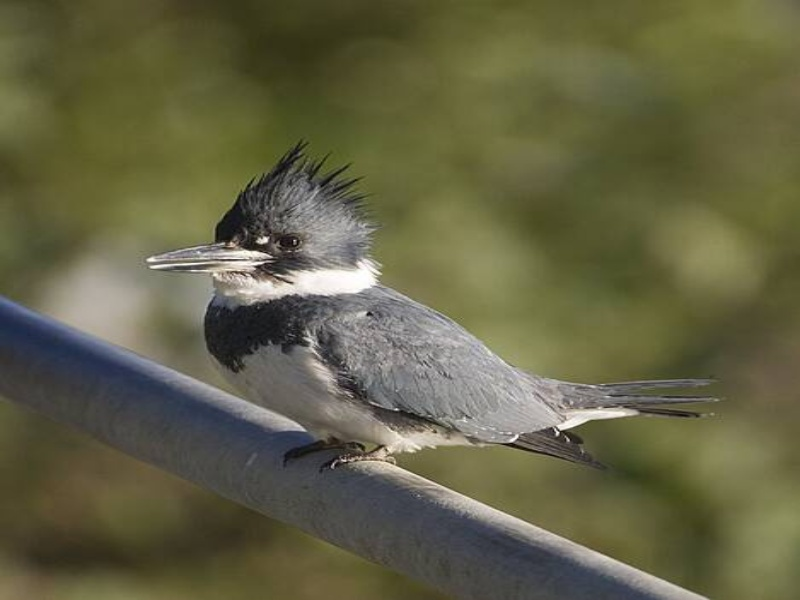kingfisher: (139, 137, 732, 480)
